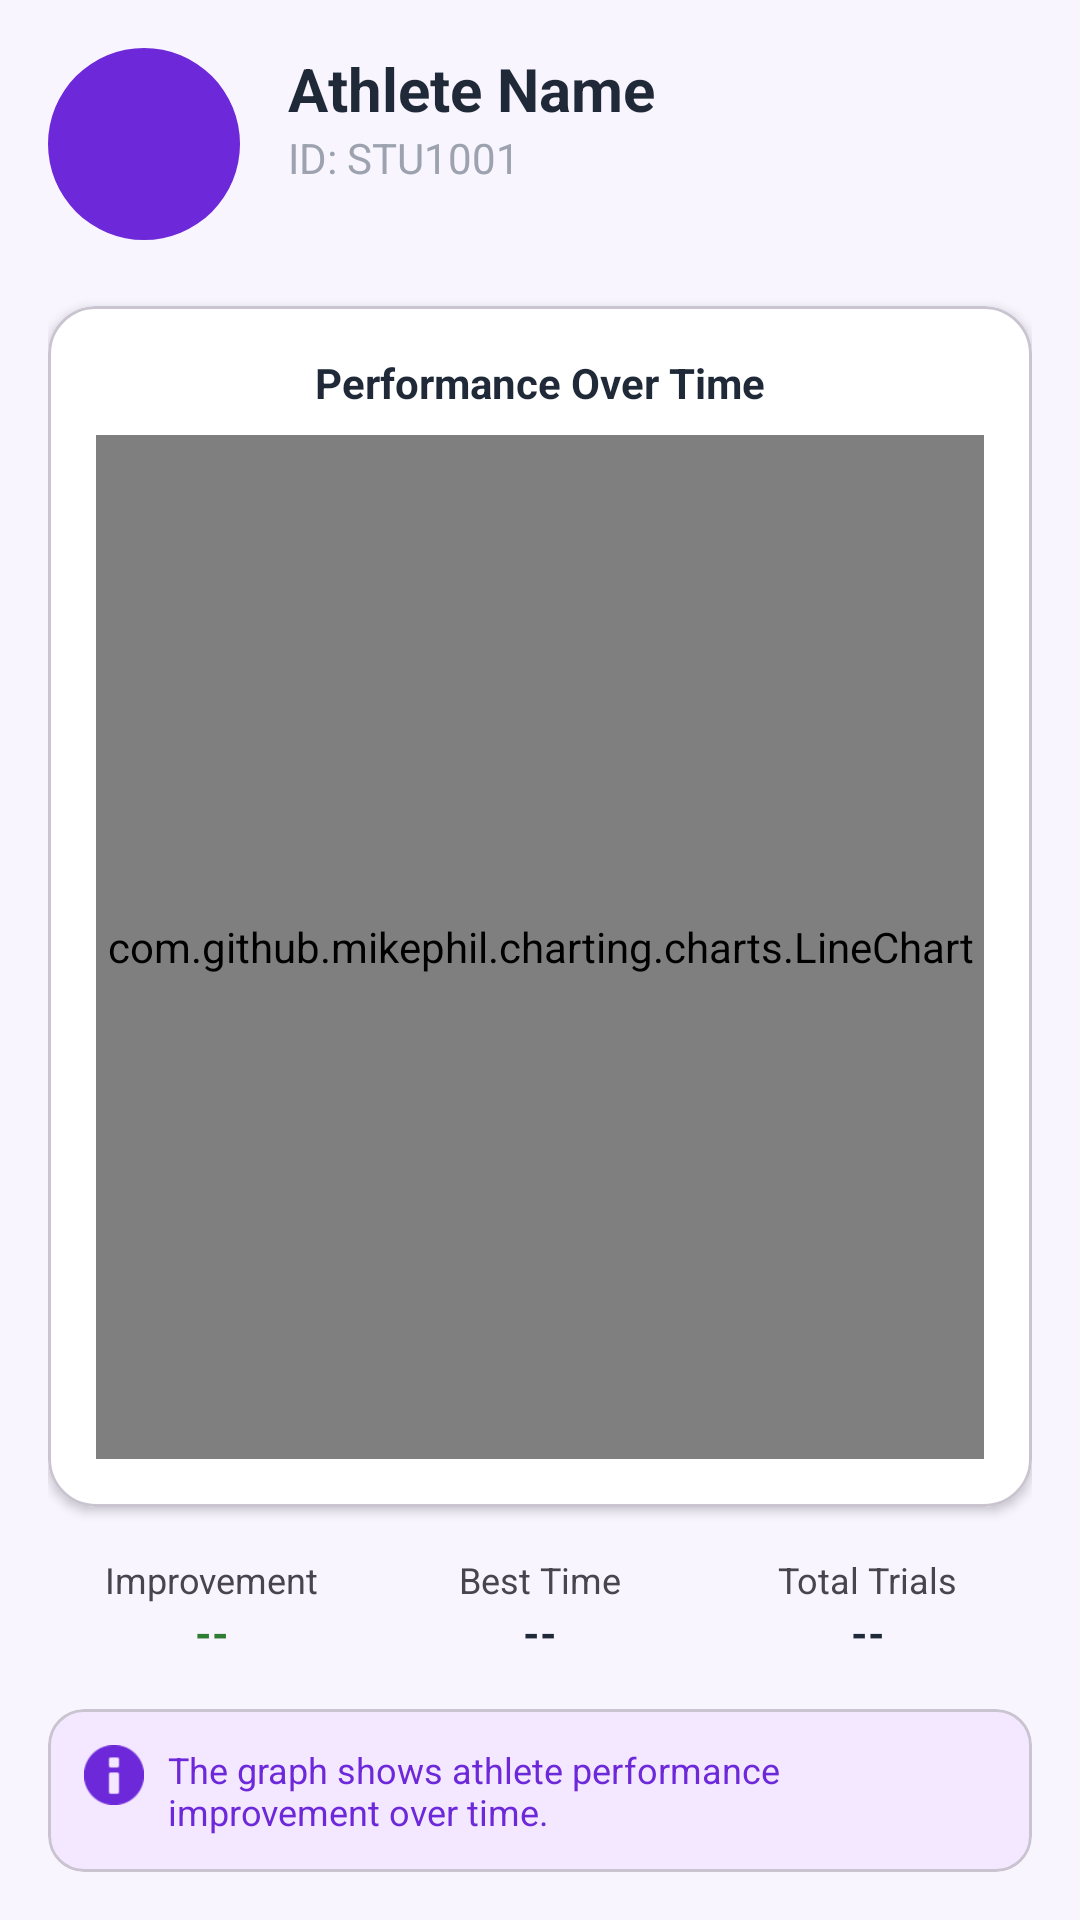

Screen size 1080 × 1920. Icon name, then its box in pixels as (x1, y1, x2, y2):
Info: (84, 1745, 144, 1805)
